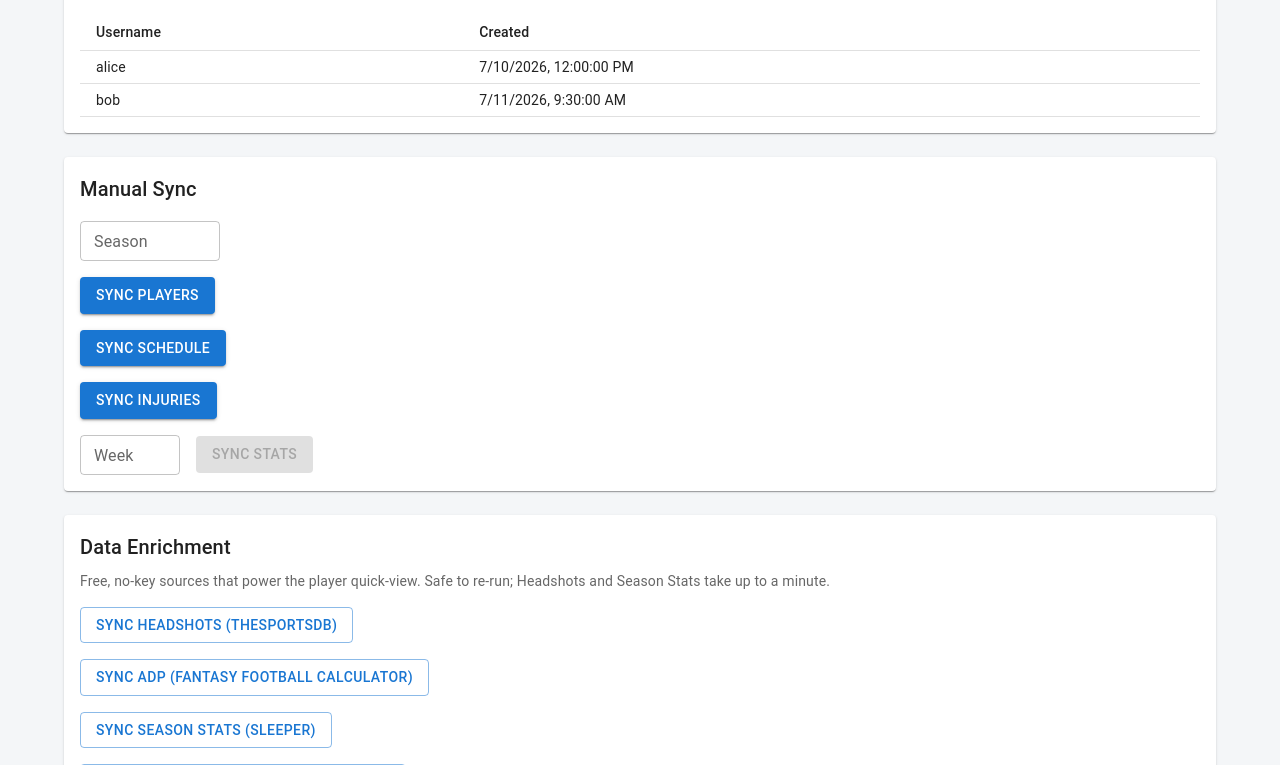
a sync failure renders the server error in an error alert
(page scrolled)
Step 1. Click the button "Sync Injuries" → coordinates (148, 400), box [80,382,217,418]
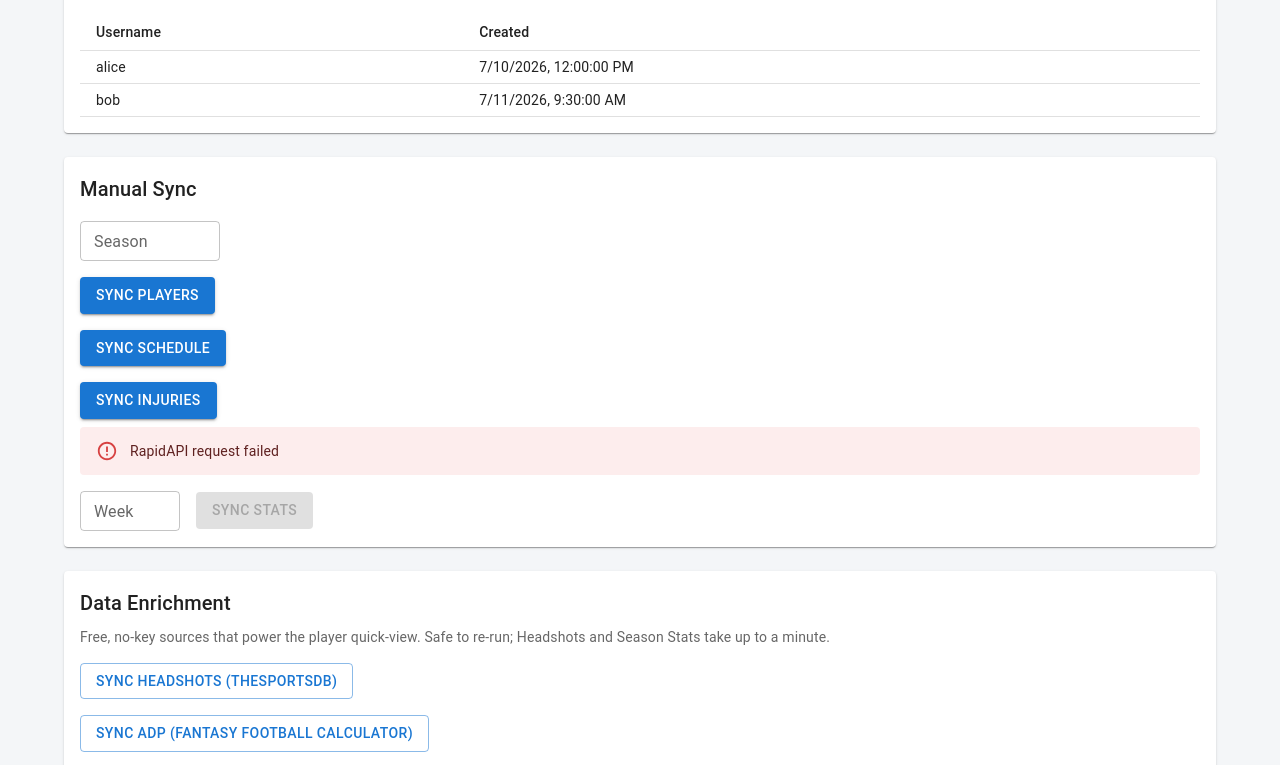
Expected: the text "RapidAPI request failed" is shown, [130,442,279,458]
